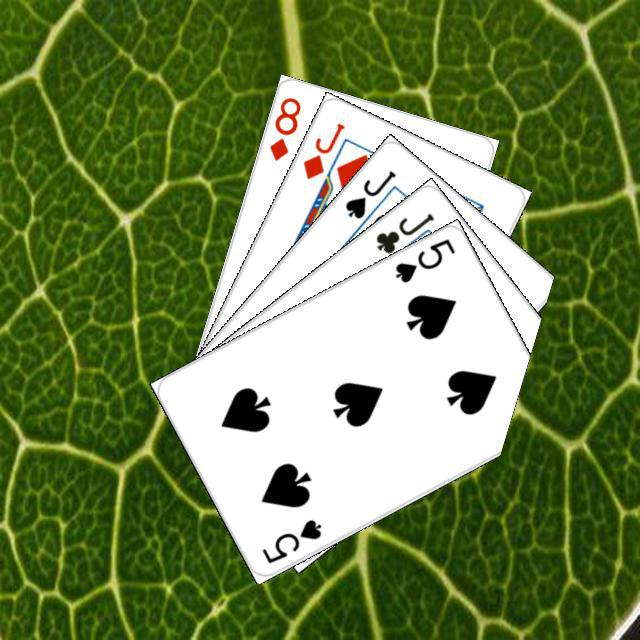5s: (256, 514, 323, 566), (390, 234, 457, 285)
8d: (264, 92, 303, 163)
Jc: (371, 208, 436, 256)
Jd: (297, 118, 347, 182)
Js: (340, 165, 398, 221)
